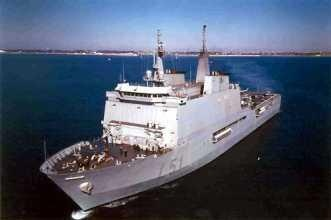warship: (36, 22, 282, 206)
